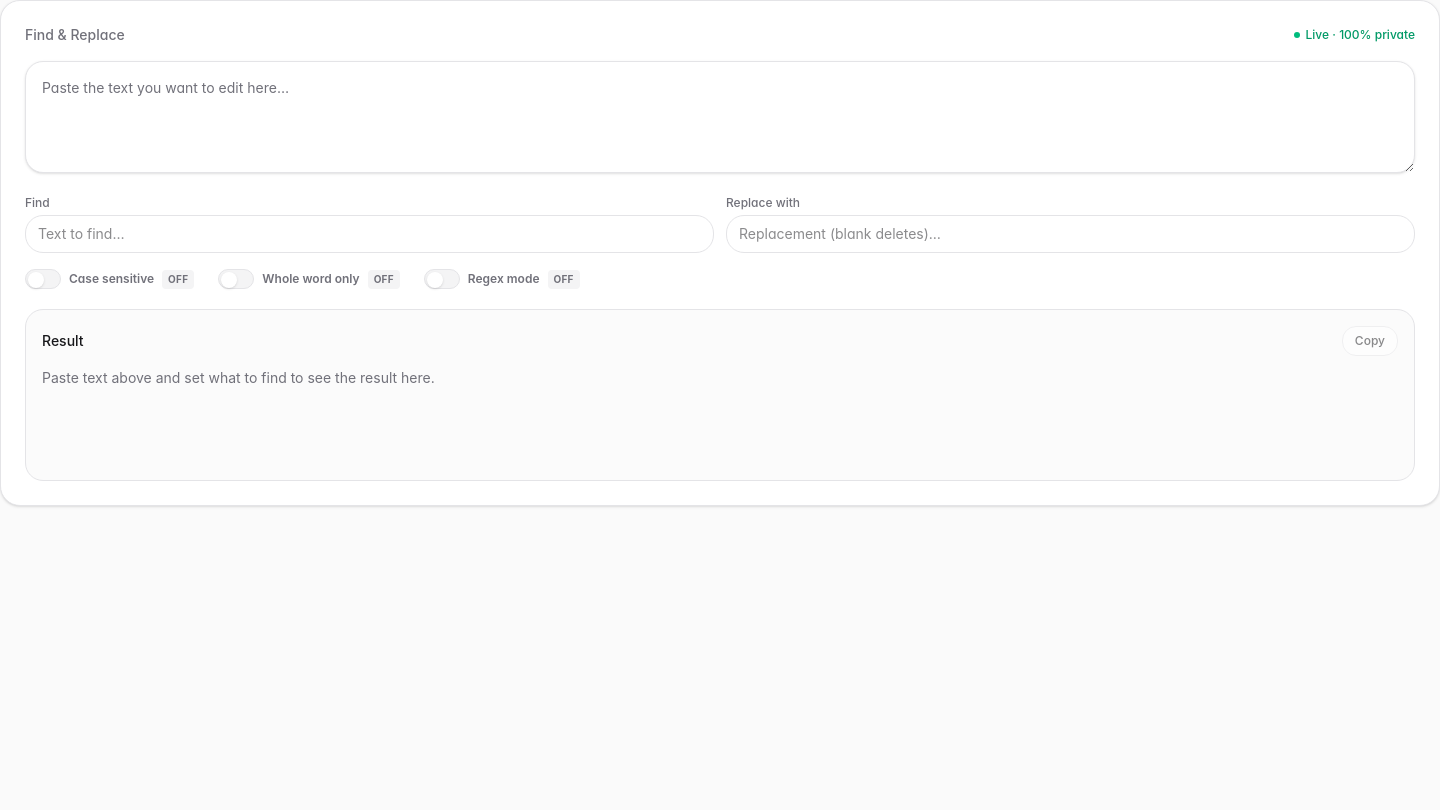
Test: Find & Replace UI toggles › highlights exactly which words match under current settings
The image size is (1440, 810).
Type "Indian indian" into the text box named "Text to edit" at (720, 117), box [25,61,1415,173]
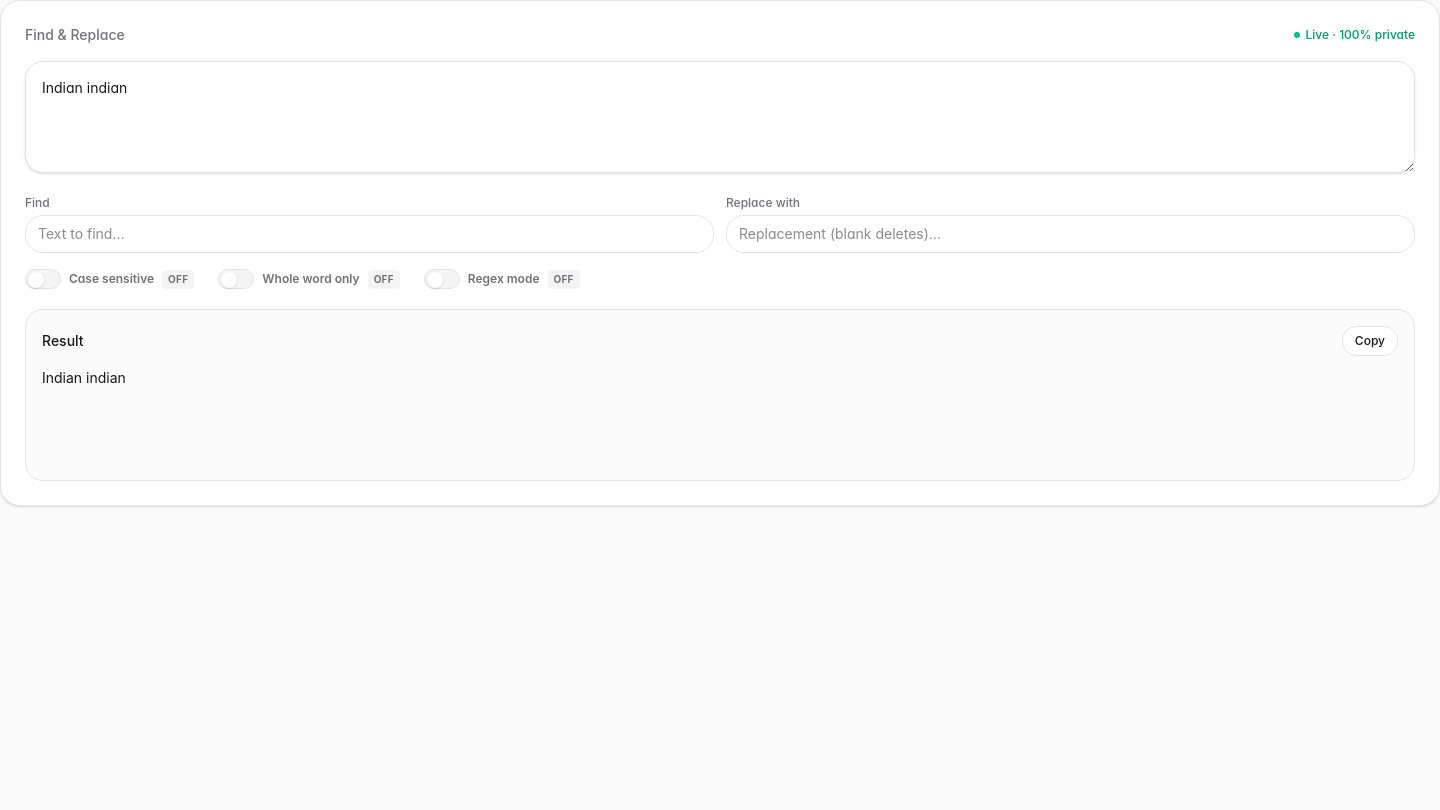
Type "Indian" into the field with placeholder "Text to find…" at (370, 234), box [25,215,714,253]
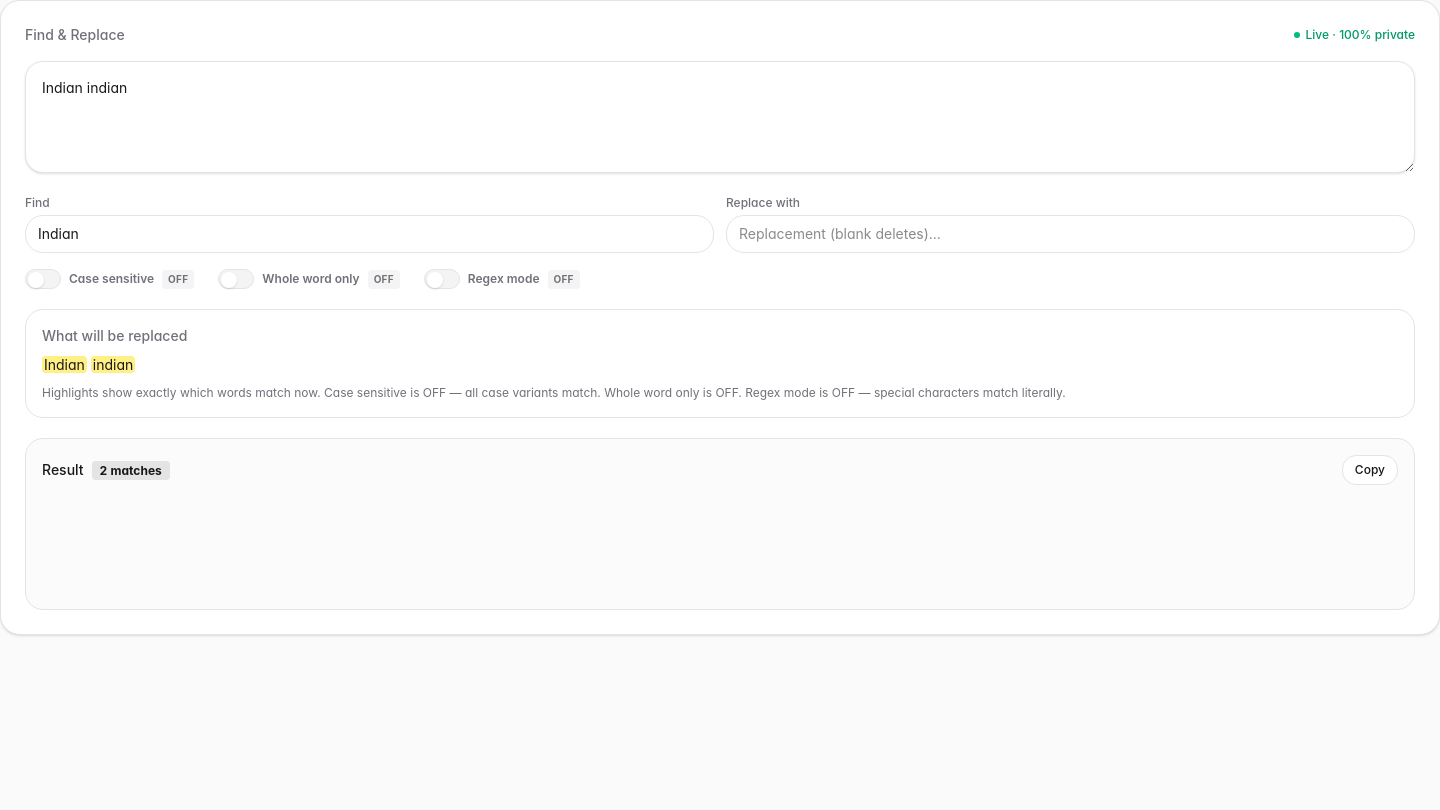
Type "American" into the field with placeholder "Replacement (blank deletes)…" at (1070, 234), box [726,215,1415,253]
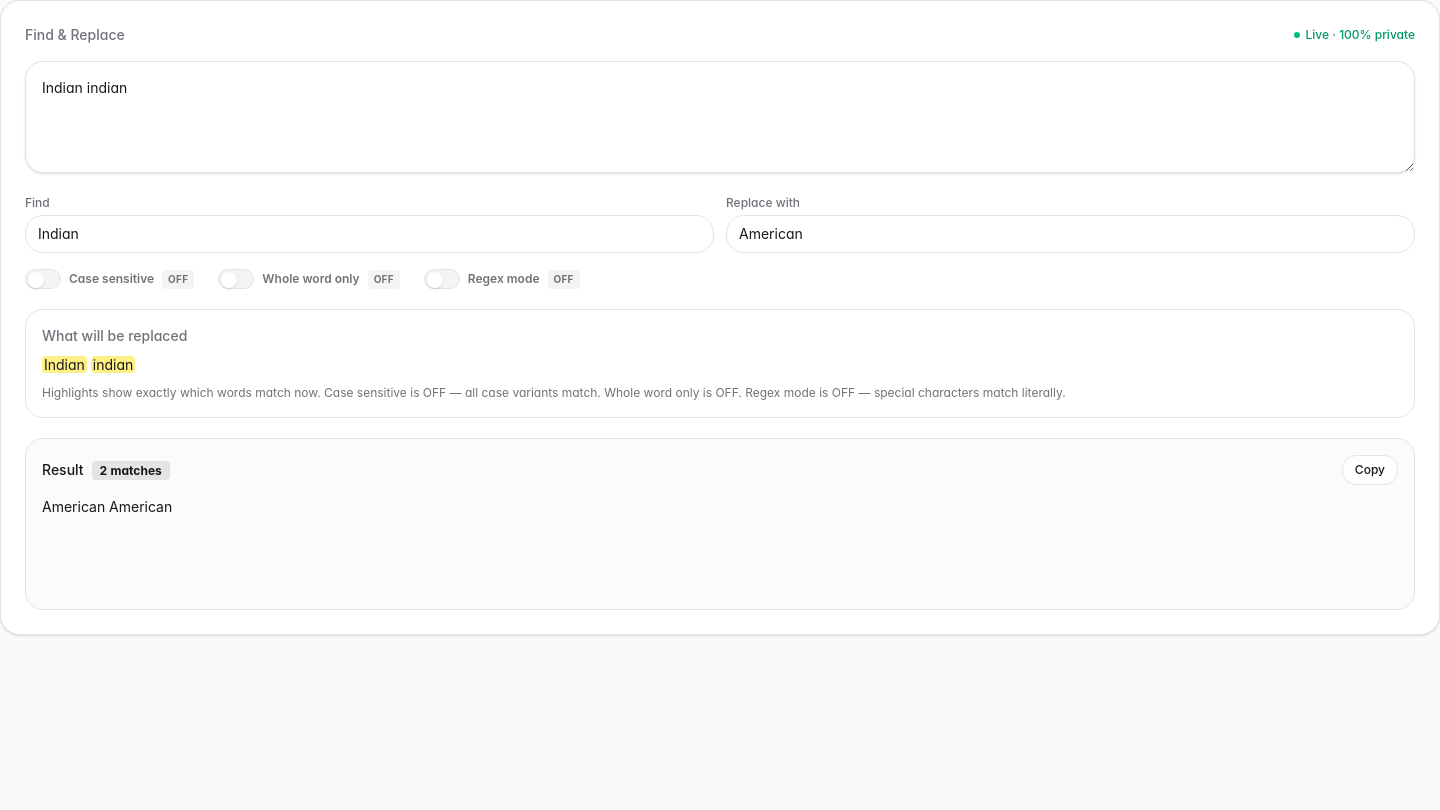
Check: the text "What will be replaced" is shown, box [42,327,187,344]
Check: the text "Case sensitive is OFF" is shown, box [324,385,601,400]
Click the switch labelled "Case sensitive Off" at (110, 279), box [25,269,194,289]
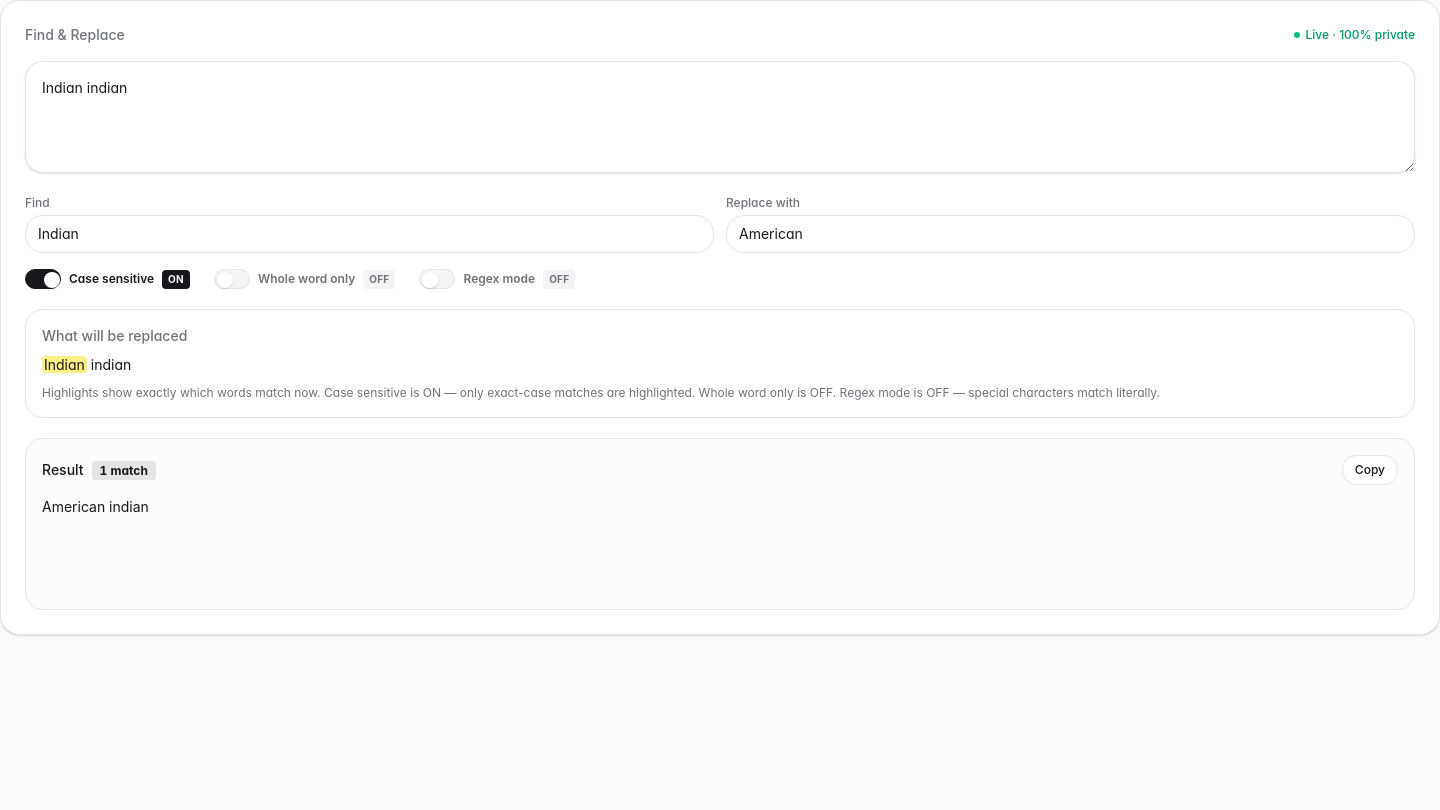
Check: the text "only exact-case matches are highlighted" is shown, box [324,385,695,400]
